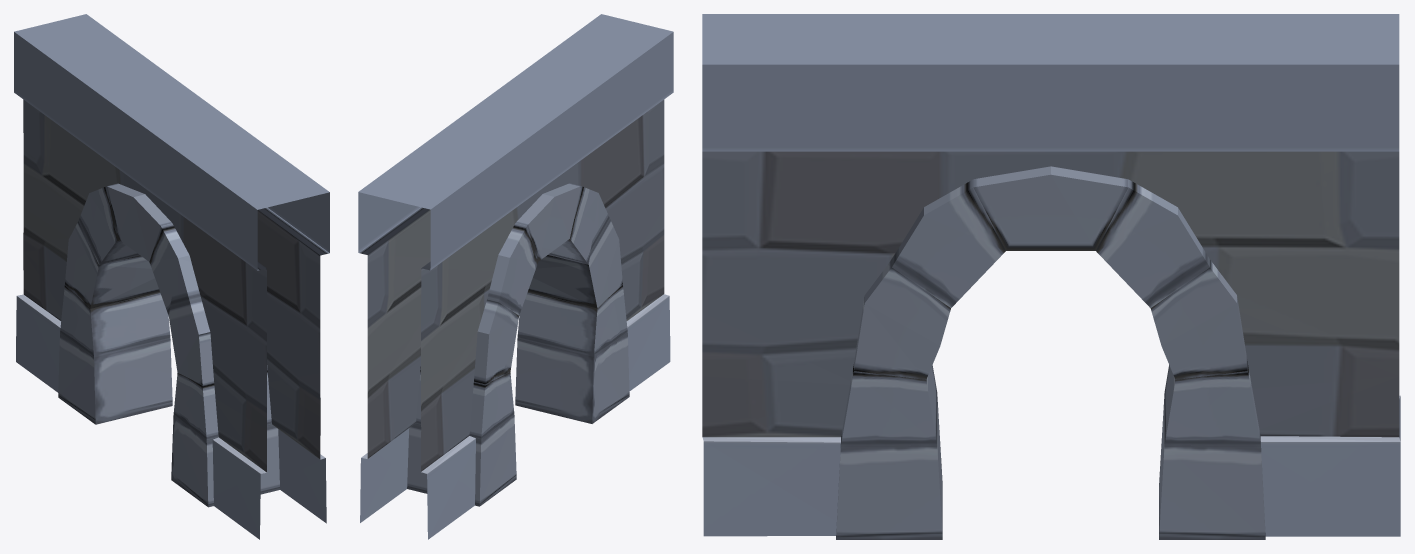
The model's file is Wall_Door.fbx.
The picture shows the model from 3 angles, left to right: view 1: azimuth 30°, elevation 25°; view 2: azimuth 150°, elevation 25°; view 3: azimuth 270°, elevation 25°; orthographic projection. The views are drawn at different scales.
Parts seen in each view (by area): view 1: Wall_Door; view 2: Wall_Door; view 3: Wall_Door.
Boxes of the visible parts, bbox=[...] form: Wall_Door: bbox=[14, 14, 329, 539]; Wall_Door: bbox=[358, 14, 673, 539]; Wall_Door: bbox=[702, 14, 1400, 539].
Bounding box in the file's own units: 18.37 × 75 × 100.
